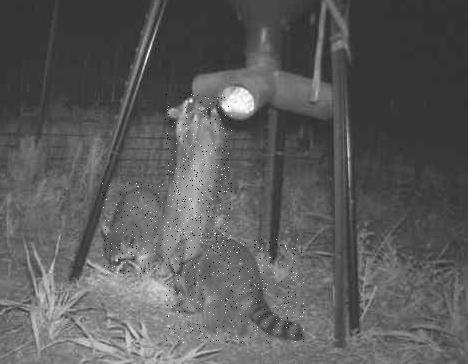Raccoon: (166, 237, 305, 343), (165, 94, 232, 278), (102, 183, 167, 274)
